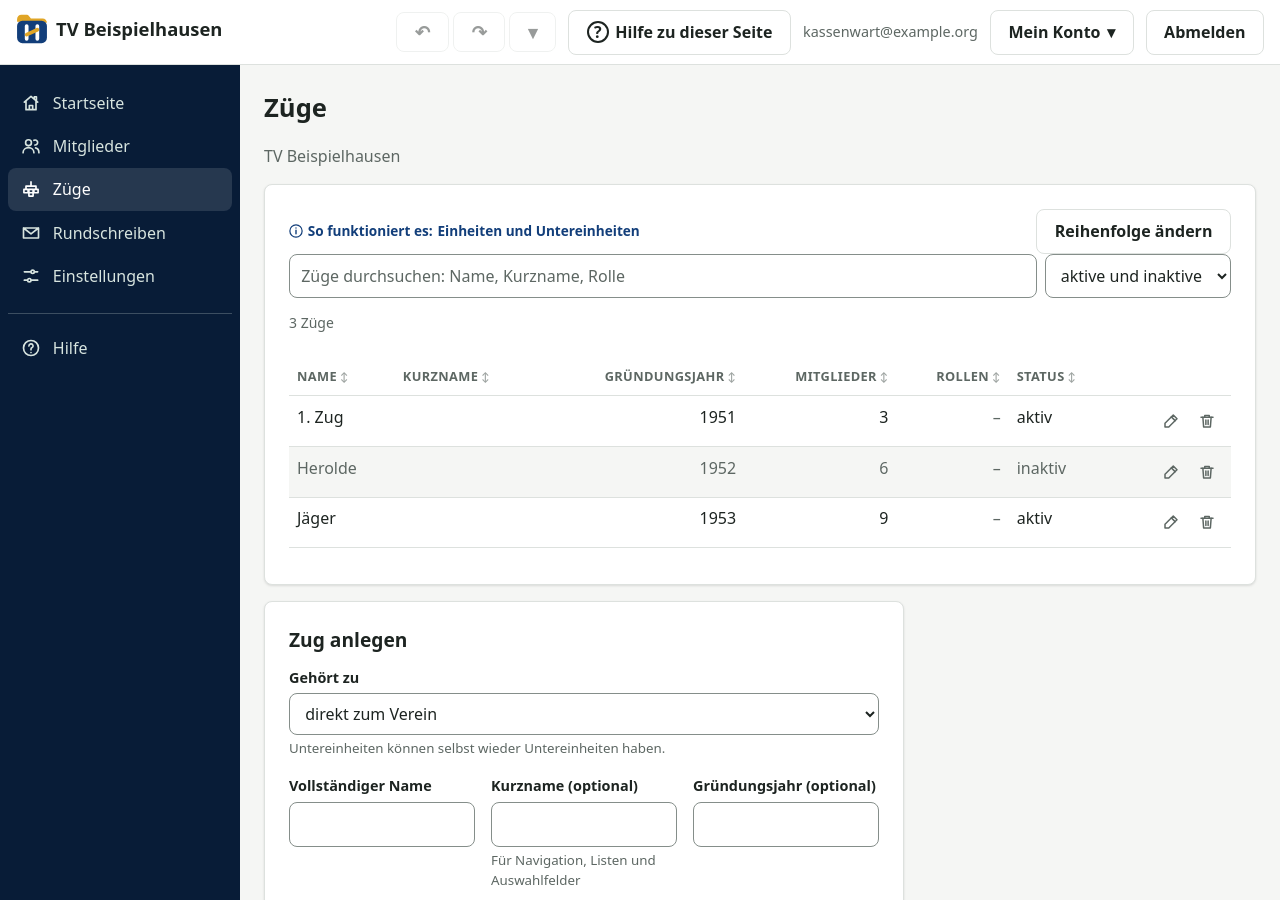
Test: Züge als Tabelle › zeigt die Züge mit Mitgliederzahl und filtert nach Status
Expected: the number of rows is 4, [289,358,1231,396]; [289,396,1231,446]; [289,446,1231,497]; [289,497,1231,548]
Expected: the text "9" is shown, [744,497,896,548]
Select "nur inaktive" in the dropdown named "Filter Status": (1138, 276) [1045,254,1231,298]
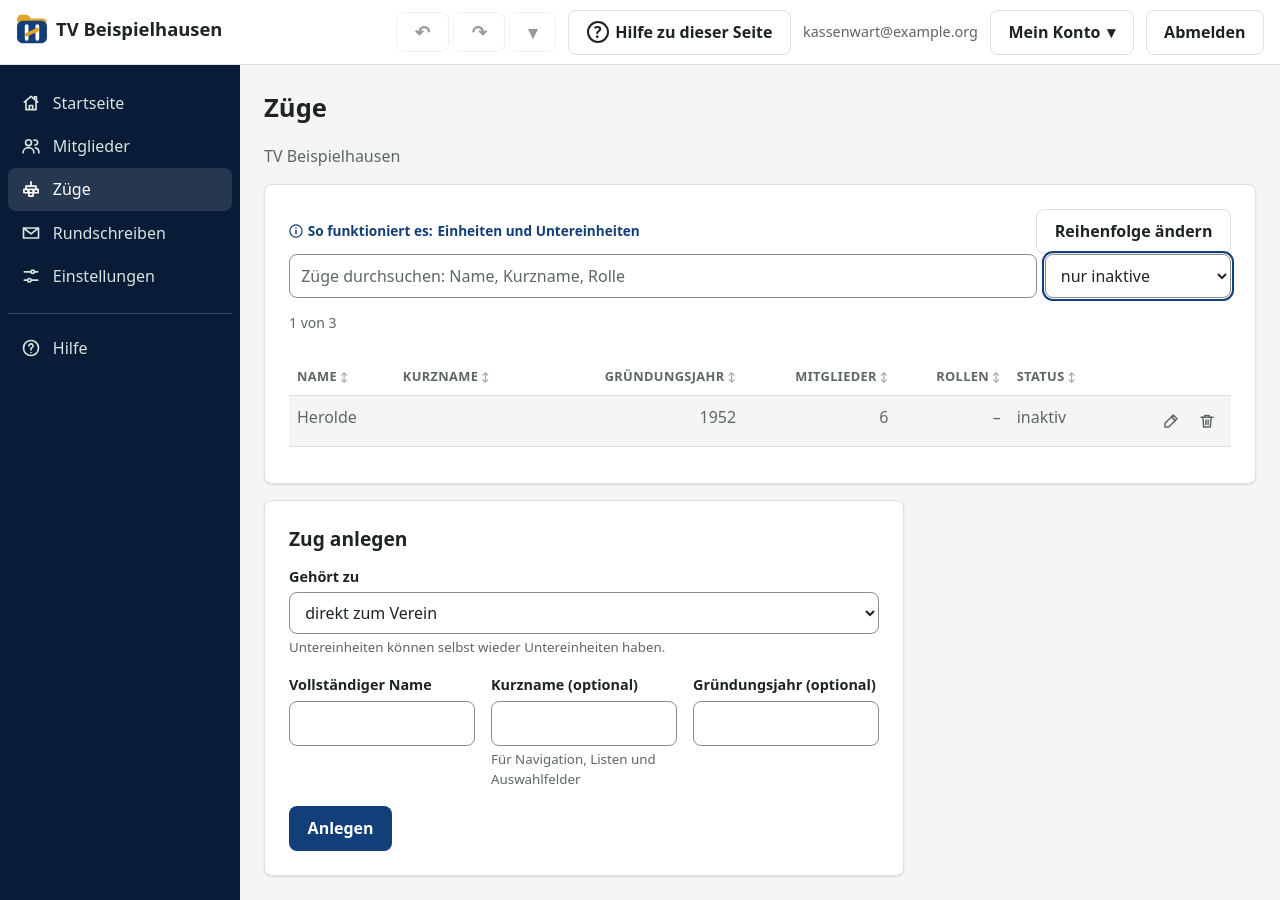
Expected: the text "Herolde" is shown, [297,405,357,429]
Expected: the number of rows is 2, [289,358,1231,396]; [289,396,1231,446]
